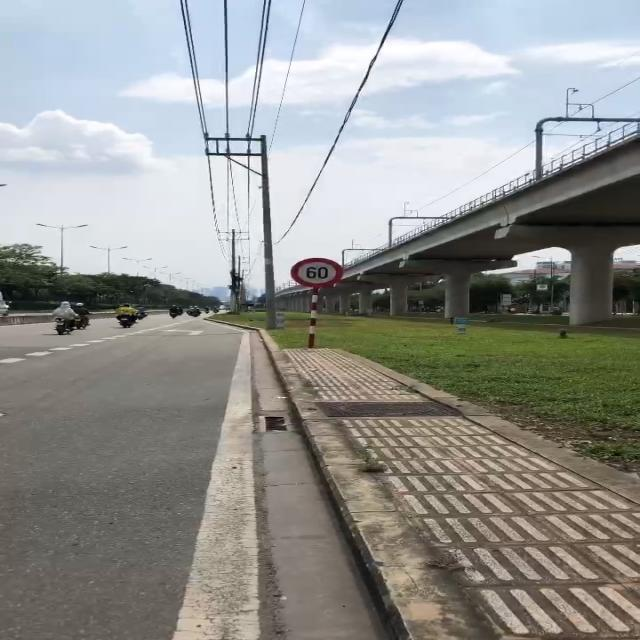Bien bao toc do toi da cho phep: (286, 254, 348, 292)
